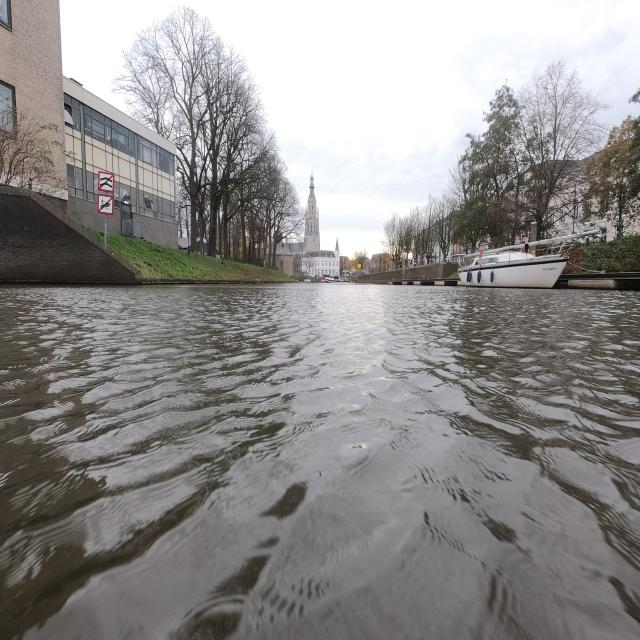boat: (472, 250, 572, 286)
dock: (562, 274, 638, 288), (388, 276, 463, 286)
grass: (107, 234, 292, 282)
sky: (72, 4, 628, 252)
tree: (383, 61, 640, 257), (161, 9, 212, 250), (572, 112, 638, 268), (208, 182, 218, 256)
wall: (0, 184, 140, 286), (351, 262, 458, 283)
water: (8, 288, 638, 632)
